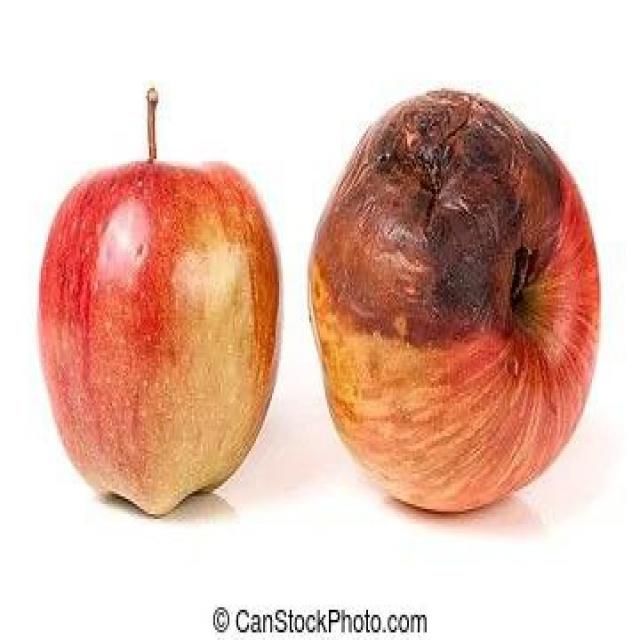fresh_apple: (37, 162, 286, 518)
rotten_apple: (311, 88, 603, 519)
